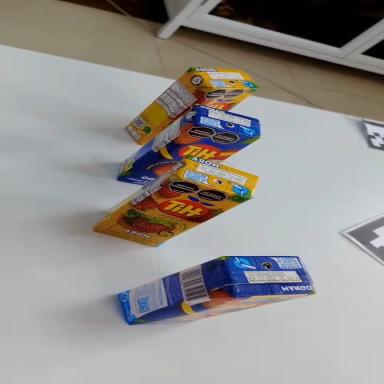HIT-MANGO: (114, 240, 315, 335), (104, 90, 267, 192)
HIT-MORA: (84, 133, 265, 269), (114, 48, 261, 148)
cara_F: (89, 153, 250, 269), (114, 101, 258, 213), (127, 280, 314, 336), (194, 89, 258, 111)
